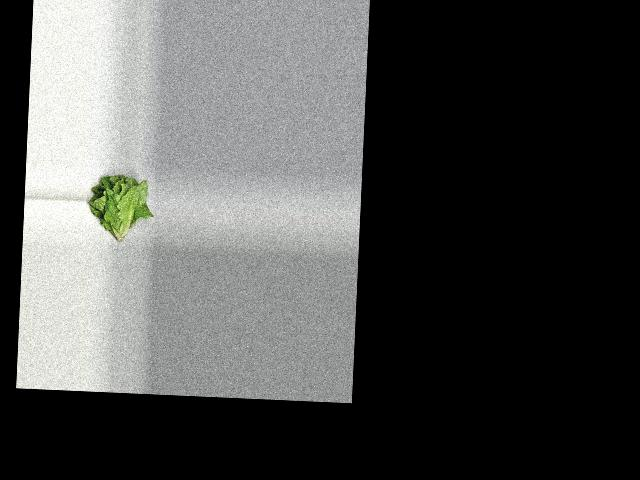lettuce: (83, 170, 153, 248)
